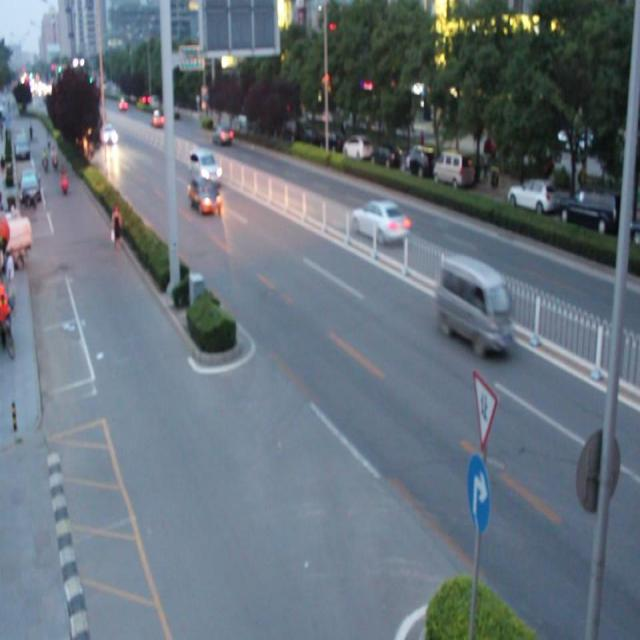car: (351, 201, 408, 242), (188, 178, 222, 214), (189, 149, 221, 185), (212, 124, 231, 144)
truck: (435, 256, 512, 352)
